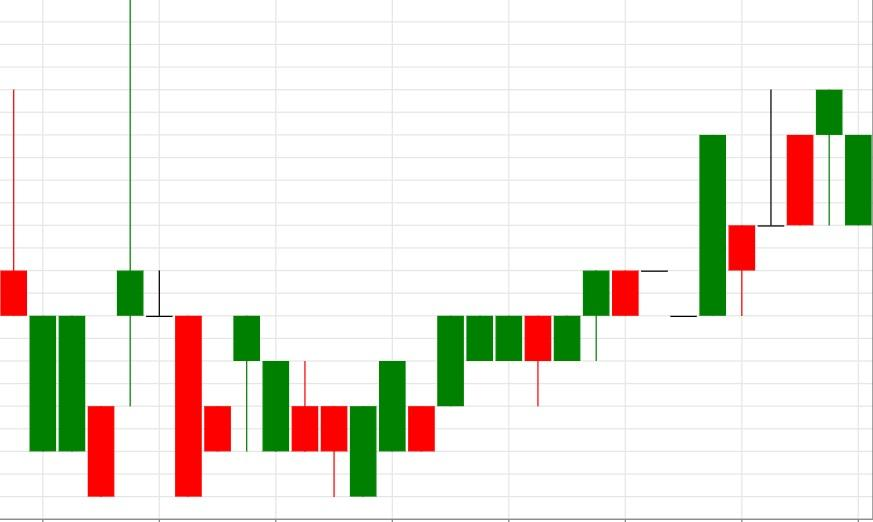hanging_man_fall: (670, 89, 843, 318)
